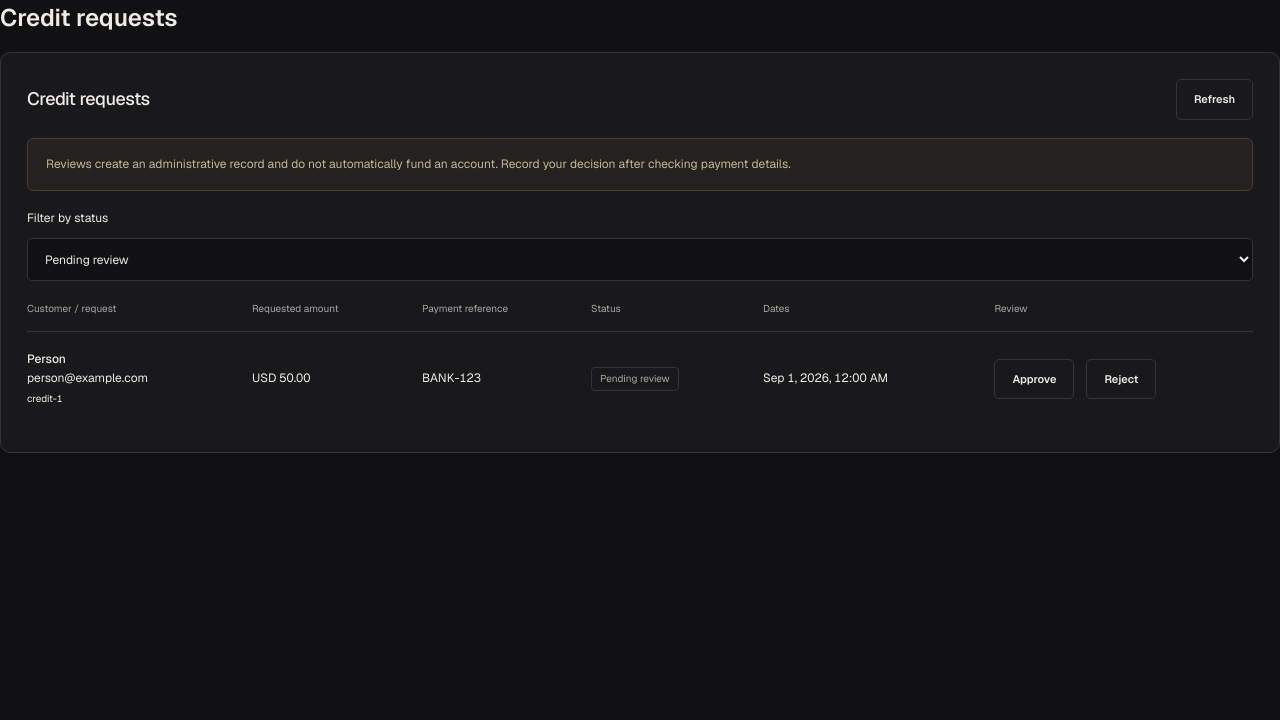
it: account portal › allows cancelling a credit review and requires a separate confirmation to record approval
Click the button with aria-label "Approve person@example.com · credit-1".
click(1034, 379)  # box [994,359,1074,399]
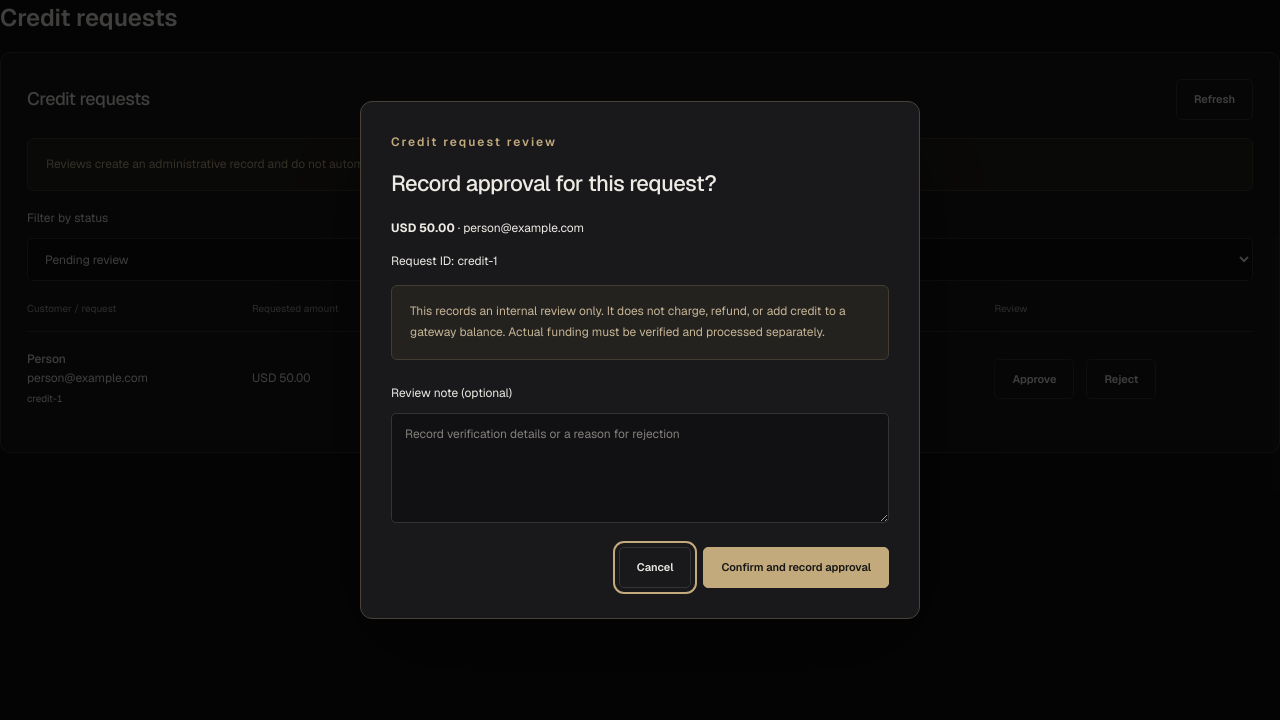
Check: the dialog shows "does not charge, refund, or add credit", box [410,303,846,340]
Press Escape
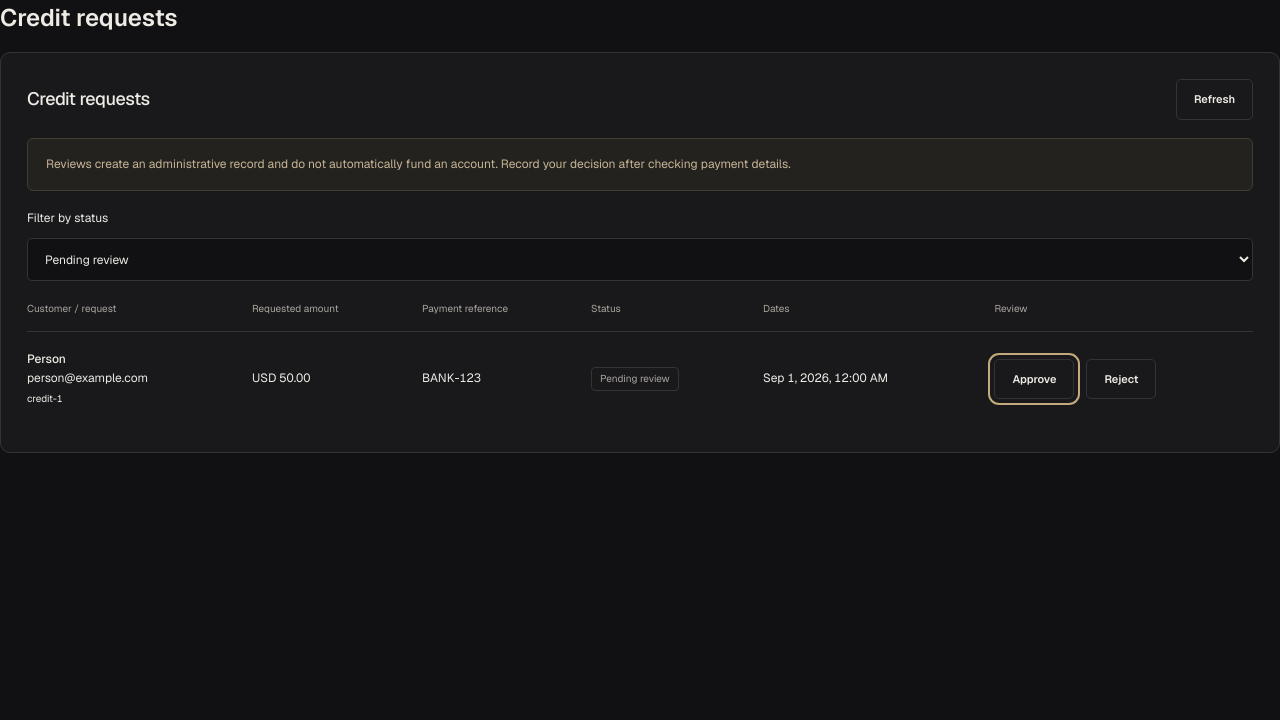
Check: the dialog is gone
Click the button with aria-label "Approve person@example.com · credit-1".
click(1034, 379)  # box [994,359,1074,399]
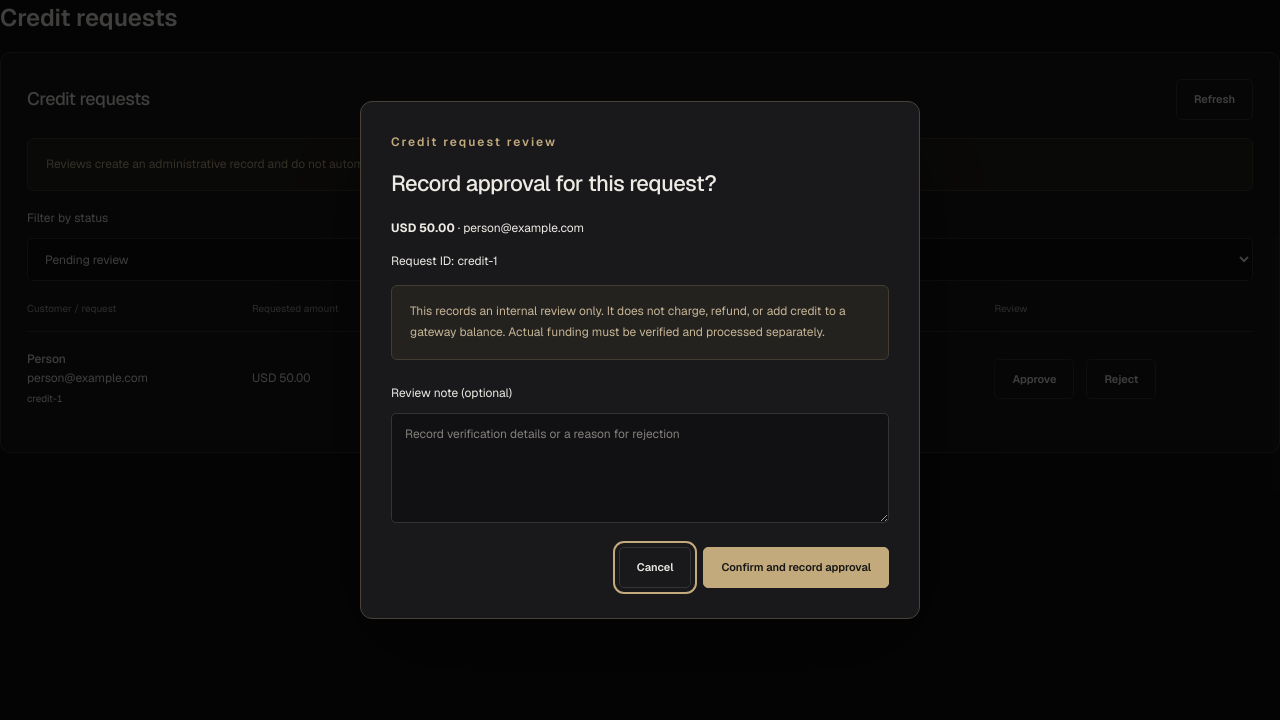
Type "Matched bank reference" into the text box labelled "Review note (optional)".
click(640, 468); type("Matched bank reference")  # box [391,413,889,523]
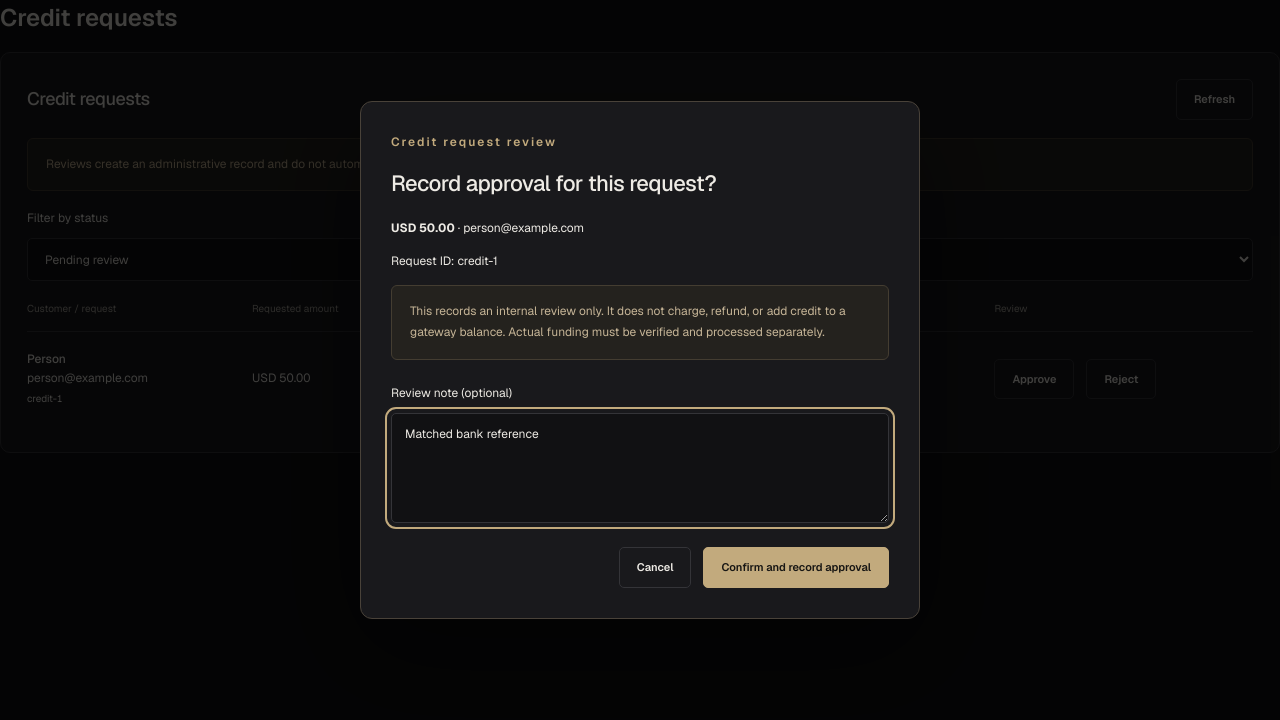
Click the button "Confirm and record approval".
click(796, 568)  # box [704,547,889,588]
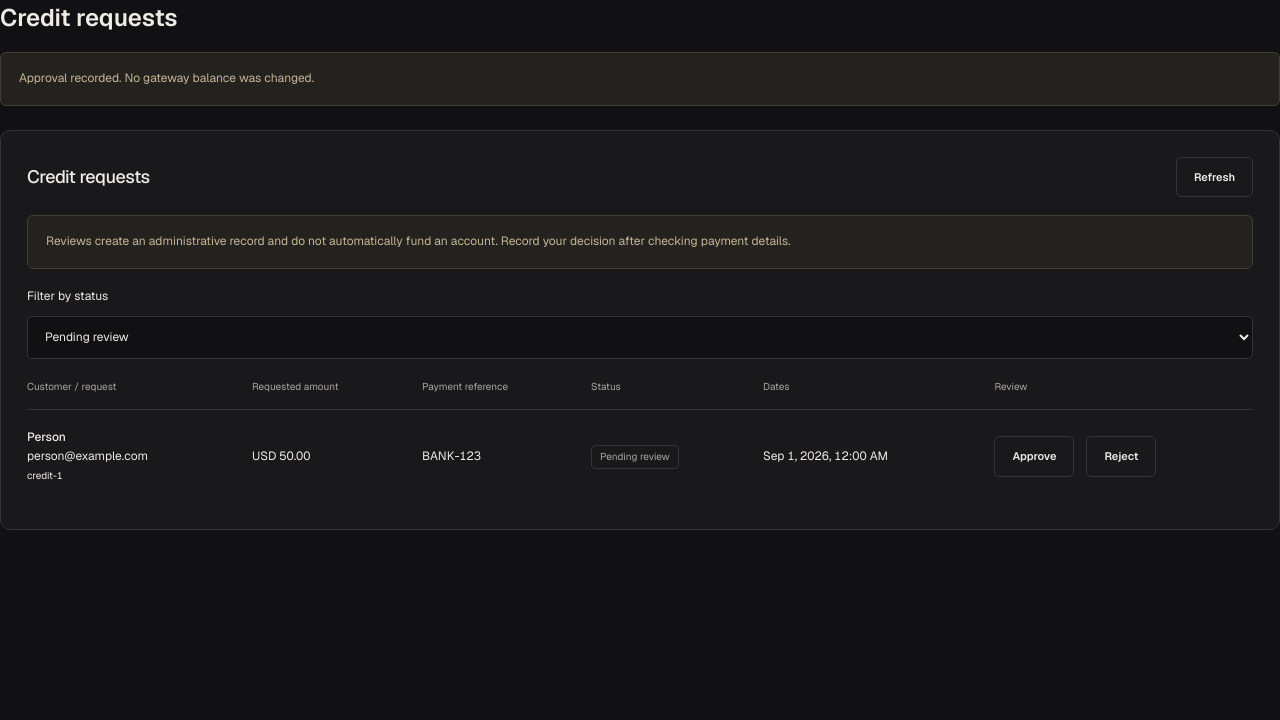
Check: the text "Approval recorded. No gateway balance was changed." is shown, box [0,52,1279,106]
